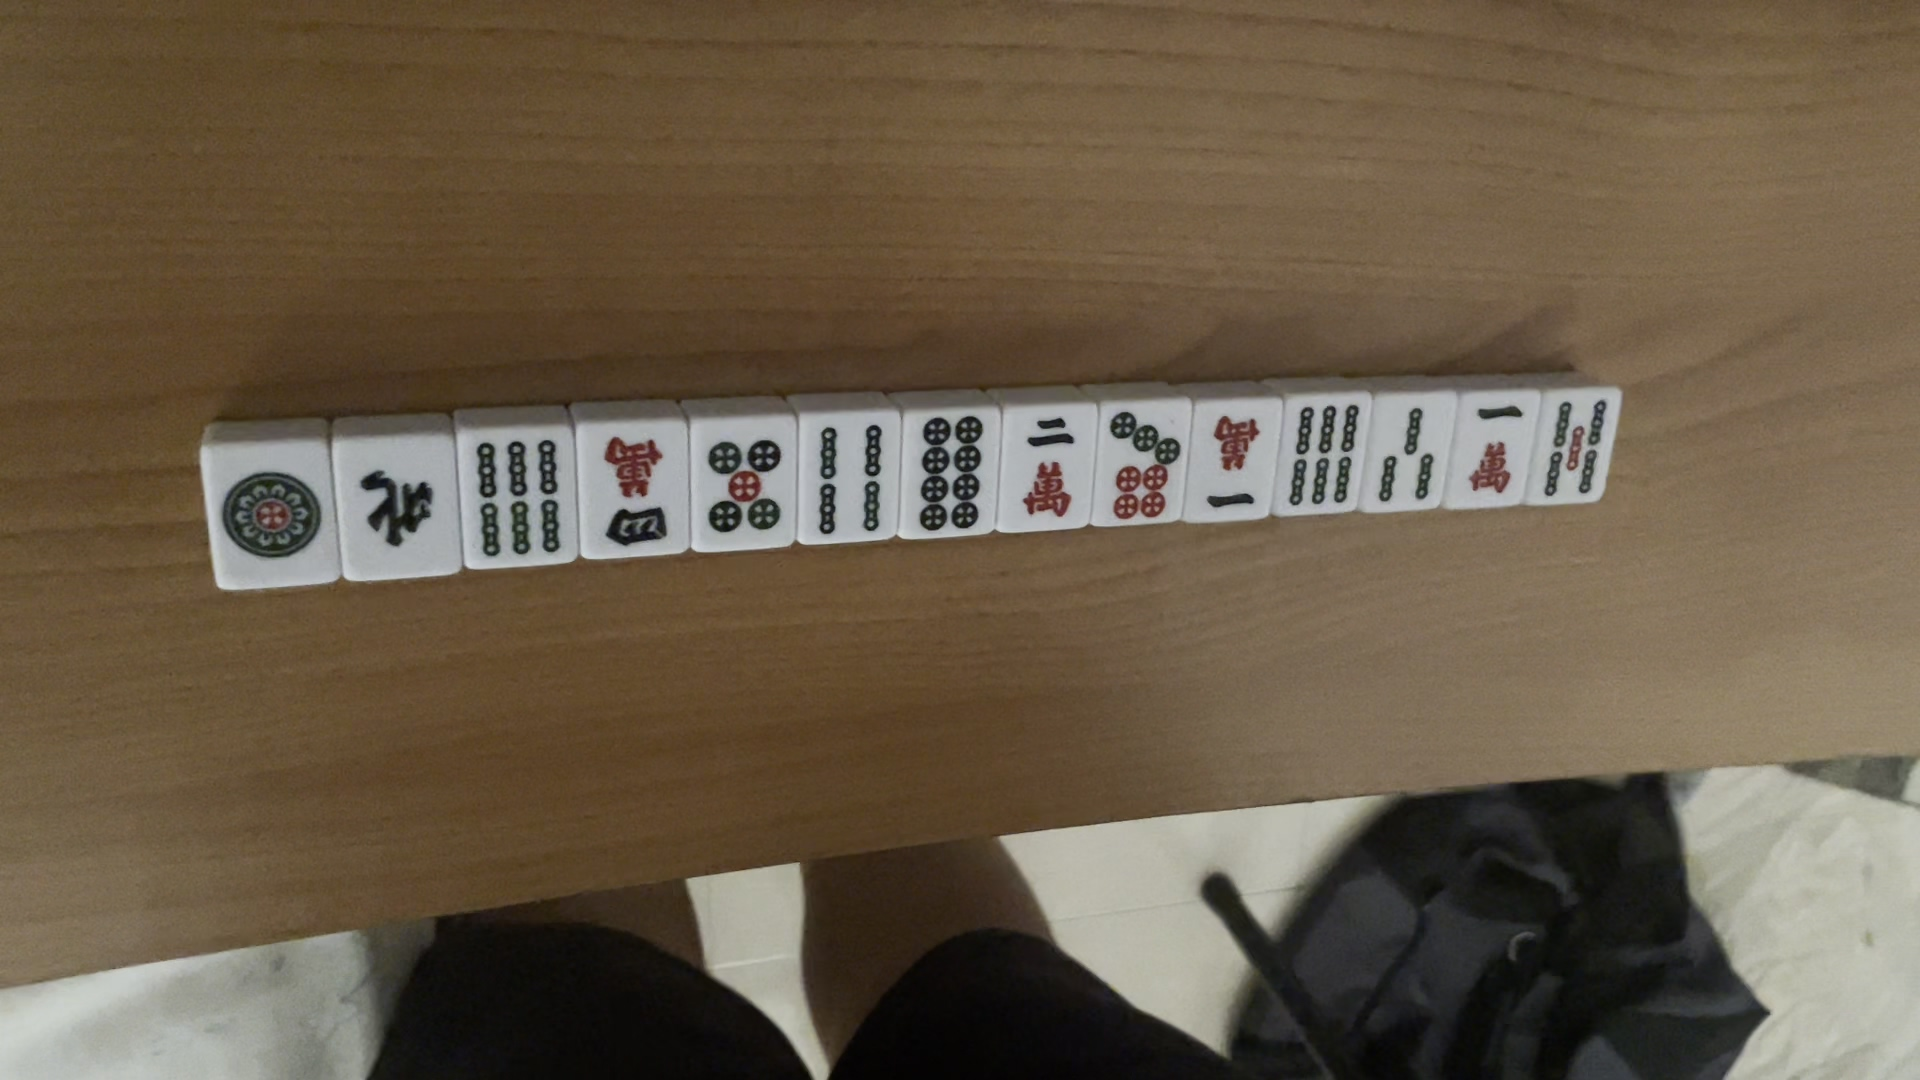b-3: (1374, 401, 1439, 505)
b-4: (807, 420, 883, 538)
b-5: (1542, 393, 1606, 499)
b-6: (470, 435, 570, 562), (1287, 399, 1362, 509)
c-1: (1197, 406, 1264, 512), (1461, 394, 1528, 500)
c-2: (1016, 409, 1076, 527)
c-4: (593, 431, 674, 551)
d-1: (215, 463, 326, 569)
d-5: (702, 431, 787, 540)
d-7: (1106, 406, 1184, 518)
d-8: (912, 415, 987, 534)
honors-north: (354, 457, 435, 551)
